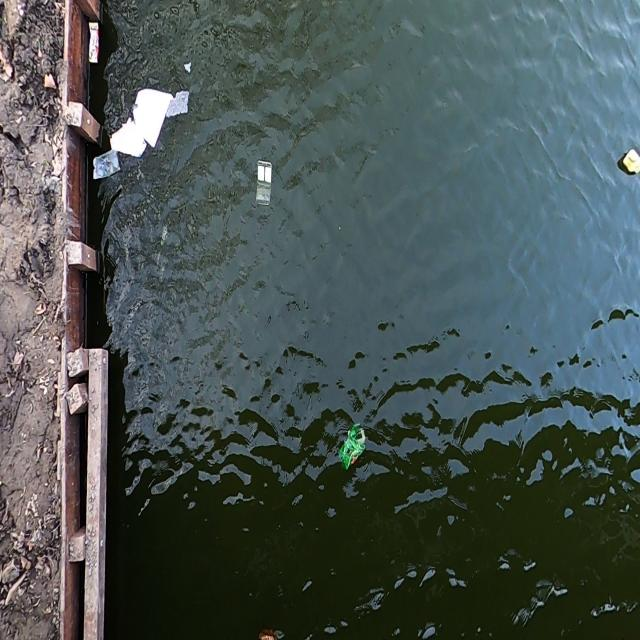Autre plastique: (249, 155, 279, 211), (90, 150, 122, 186), (85, 19, 98, 73)
Sac plastique: (334, 416, 371, 477)
